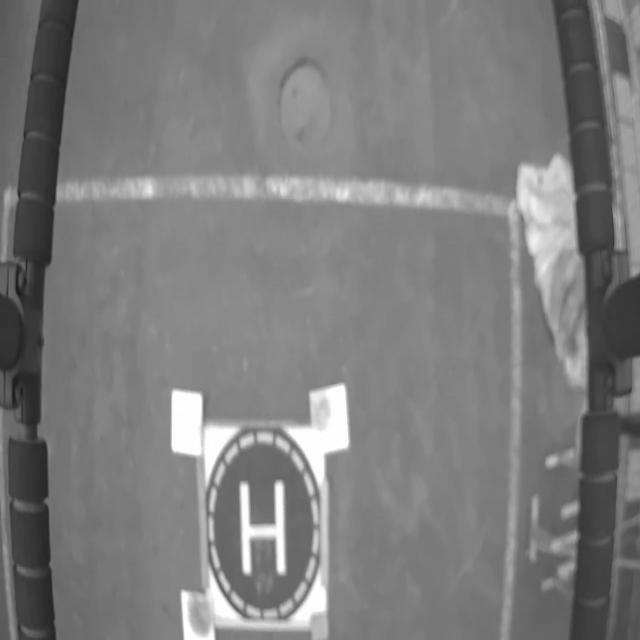Helipad: (239, 479, 286, 575)
